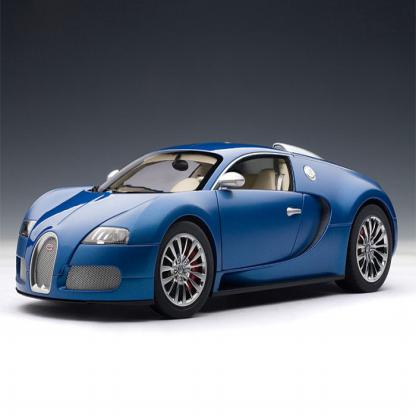Vehicle: (16, 143, 398, 318)
